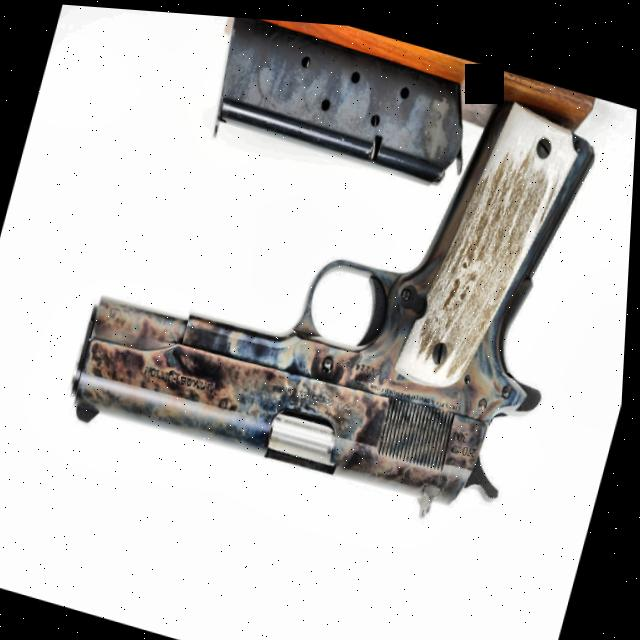Colt m1911: (59, 5, 618, 542)
